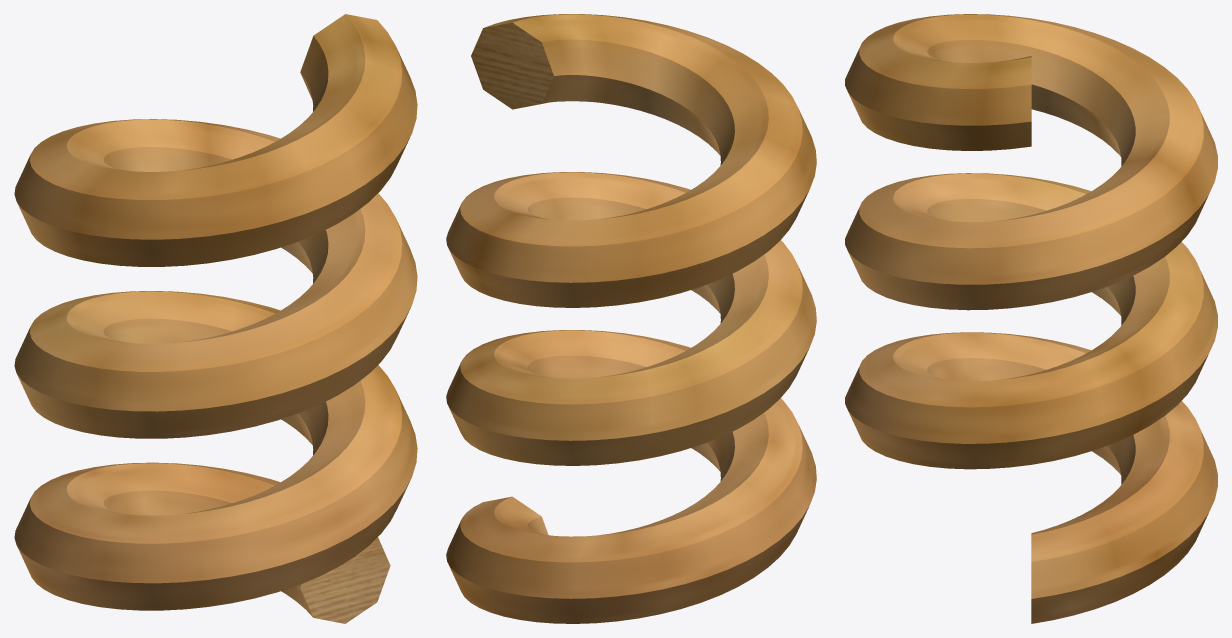
Rendered from helix.obj.
3 renders of one model, left to right at view 1: azimuth 30°, elevation 25°; view 2: azimuth 150°, elevation 25°; view 3: azimuth 270°, elevation 25°, orthographic. The views are drawn at different scales.
Parts seen in each view (by area): view 1: pHelix1; view 2: pHelix1; view 3: pHelix1.
Boxes of the visible parts, x1,y1,x2,y2 form: pHelix1: (14,14,417,623); pHelix1: (446,14,816,623); pHelix1: (845,14,1217,623).
Size of the model in its own units: 3.09 by 5.16 by 3.08.
Materials: 1 (1 with a texture image).
